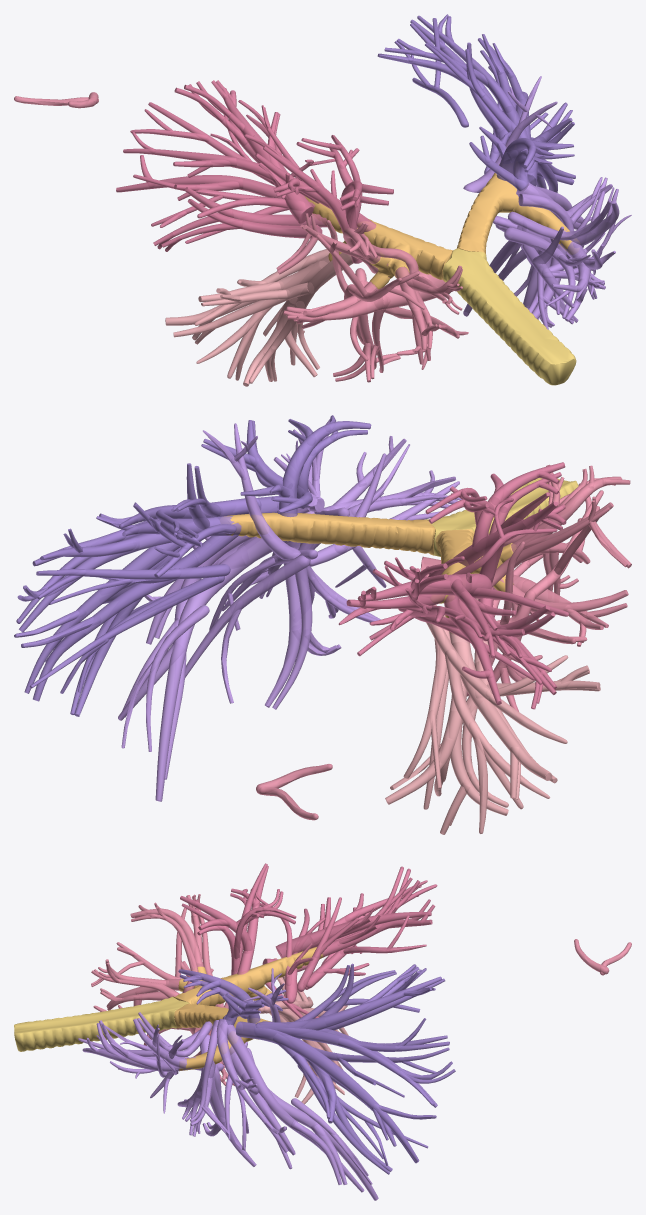
3 views of the same model, one above another, from view 1: azimuth 30°, elevation 25°; view 2: azimuth 150°, elevation 25°; view 3: azimuth 270°, elevation 25° (orthographic). The views are drawn at different scales.
Visible parts, largest first — view 1: right_lower_lobe, left_upper_lobe, right_upper_lobe, left_lower_lobe, right_middle_lobe, trachea, right_main_bronchus, left_main_bronchus; view 2: left_lower_lobe, left_upper_lobe, right_lower_lobe, right_middle_lobe, right_upper_lobe, left_main_bronchus, right_main_bronchus, trachea; view 3: left_lower_lobe, left_upper_lobe, right_lower_lobe, right_upper_lobe, trachea, right_main_bronchus, left_main_bronchus, right_middle_lobe.
Boxes of the visible parts, box(x1,y1,x2,y2) form: right_lower_lobe: box(116, 80, 393, 263); left_upper_lobe: box(463, 76, 631, 329); right_upper_lobe: box(14, 92, 468, 382); left_lower_lobe: box(377, 14, 575, 192); right_middle_lobe: box(165, 249, 357, 386); trachea: box(443, 248, 576, 385); right_main_bronchus: box(305, 196, 452, 289); left_main_bronchus: box(457, 164, 579, 254); left_lower_lobe: box(14, 415, 371, 716); left_upper_lobe: box(118, 419, 461, 801); right_lower_lobe: box(338, 462, 568, 709); right_middle_lobe: box(385, 598, 600, 834); right_upper_lobe: box(256, 464, 631, 820); left_main_bronchus: box(220, 512, 435, 555); right_main_bronchus: box(430, 529, 515, 633); trachea: box(426, 478, 578, 556); left_lower_lobe: box(178, 963, 455, 1174); left_upper_lobe: box(78, 968, 378, 1200); right_lower_lobe: box(180, 863, 437, 1018); right_upper_lobe: box(91, 894, 631, 1085); trachea: box(14, 996, 189, 1051); right_main_bronchus: box(173, 947, 323, 1006); left_main_bronchus: box(174, 1003, 270, 1071); right_middle_lobe: box(252, 958, 348, 1104).
Bounding box in the file's own units: 242 × 158 × 381.
